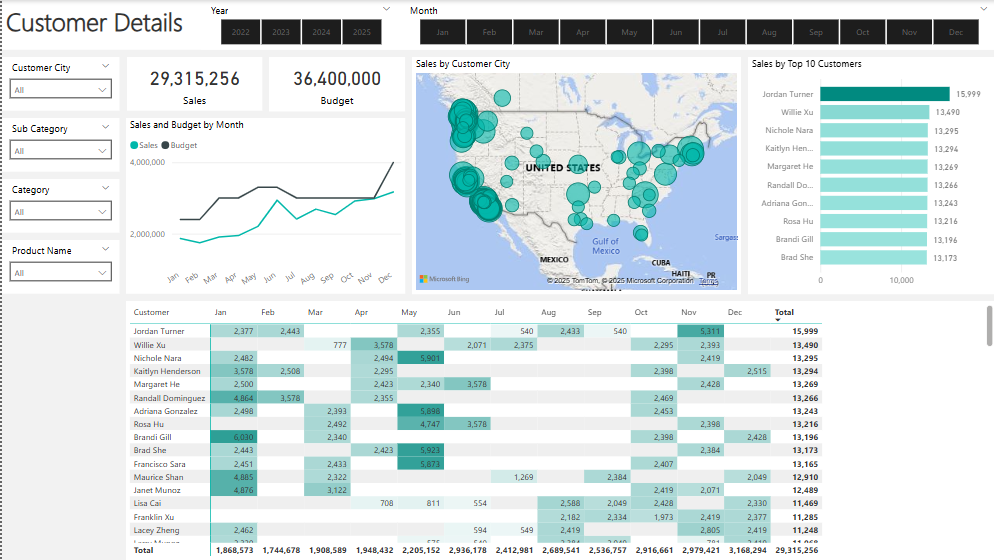

This screenshot's page, from the dashboard's own definition file:
{"tool":"powerbi","page":{"name":"Customer Details","canvas":[1280,720],"ordinal":1},"visuals":[{"type":"textbox","box":[0,0,1280,64],"z":0},{"type":"slicer","fields":{"Values":["DIM_Calendar.Year"]},"box":[256,0,256,64],"z":1000},{"type":"slicer","fields":{"Values":["DIM_Calendar.MonthShort"]},"box":[512,0,768,64],"z":2000},{"type":"slicer","fields":{"Values":["DIM_Customers.Customer City"]},"box":[0,73,150.5,69.3],"z":3000},{"type":"slicer","fields":{"Values":["DIM_Products.Product Category"]},"box":[0,229.9,150.5,69.3],"z":4000},{"type":"slicer","fields":{"Values":["DIM_Products.Product Name"]},"box":[0,308.4,150.5,69.3],"z":5000},{"type":"slicer","fields":{"Values":["DIM_Products.Sub Category"]},"box":[0,151.4,150.5,69.3],"z":6000},{"type":"lineChart","fields":{"Category":["DIM_Calendar.MonthShort"],"Y":["Analysis Metrics.Sales","Analysis Metrics.Budget"]},"box":[159.8,151.8,358.7,226.4],"z":7000},{"type":"card","fields":{"Values":["Analysis Metrics.Sales"]},"box":[160.7,72.8,174,69.2],"z":8000},{"type":"map","fields":{"Category":["DIM_Customers.Customer City"],"Size":["Analysis Metrics.Sales"]},"box":[527.3,72.8,423.5,304.5],"z":9000},{"type":"card","fields":{"Values":["Analysis Metrics.Budget"]},"box":[343.6,72.8,174.9,70.1],"z":10000},{"type":"pivotTable","fields":{"Rows":["DIM_Customers.Full Name"],"Columns":["DIM_Calendar.MonthShort"],"Values":["Analysis Metrics.Sales"]},"box":[159.8,387.1,1120.4,332.9],"z":11000},{"type":"barChart","title":"Sales by Top 10 Customers","fields":{"Category":["DIM_Customers.Full Name"],"Y":["Analysis Metrics.Sales"]},"box":[959.7,72.8,320.5,304.5],"z":12000}]}

Visuals, with their boxes in screenshot pixels (x1, y1, x2, y2), scaled from the page's 1280x720 canvas onto the 994x560 screenshot:
textbox: 0:0:993:50
slicer - DIM_Calendar.Year: 199:0:398:50
slicer - DIM_Calendar.MonthShort: 398:0:993:50
slicer - DIM_Customers.Customer City: 0:57:117:111
slicer - DIM_Products.Product Category: 0:179:117:233
slicer - DIM_Products.Product Name: 0:240:117:294
slicer - DIM_Products.Sub Category: 0:118:117:172
lineChart - DIM_Calendar.MonthShort x Analysis Metrics.Sales: 124:118:403:294
card - Analysis Metrics.Sales: 125:57:260:110
map - DIM_Customers.Customer City x Analysis Metrics.Sales: 409:57:738:293
card - Analysis Metrics.Budget: 267:57:403:111
pivotTable - DIM_Customers.Full Name x DIM_Calendar.MonthShort: 124:301:993:559
"Sales by Top 10 Customers" barChart: 745:57:993:293
